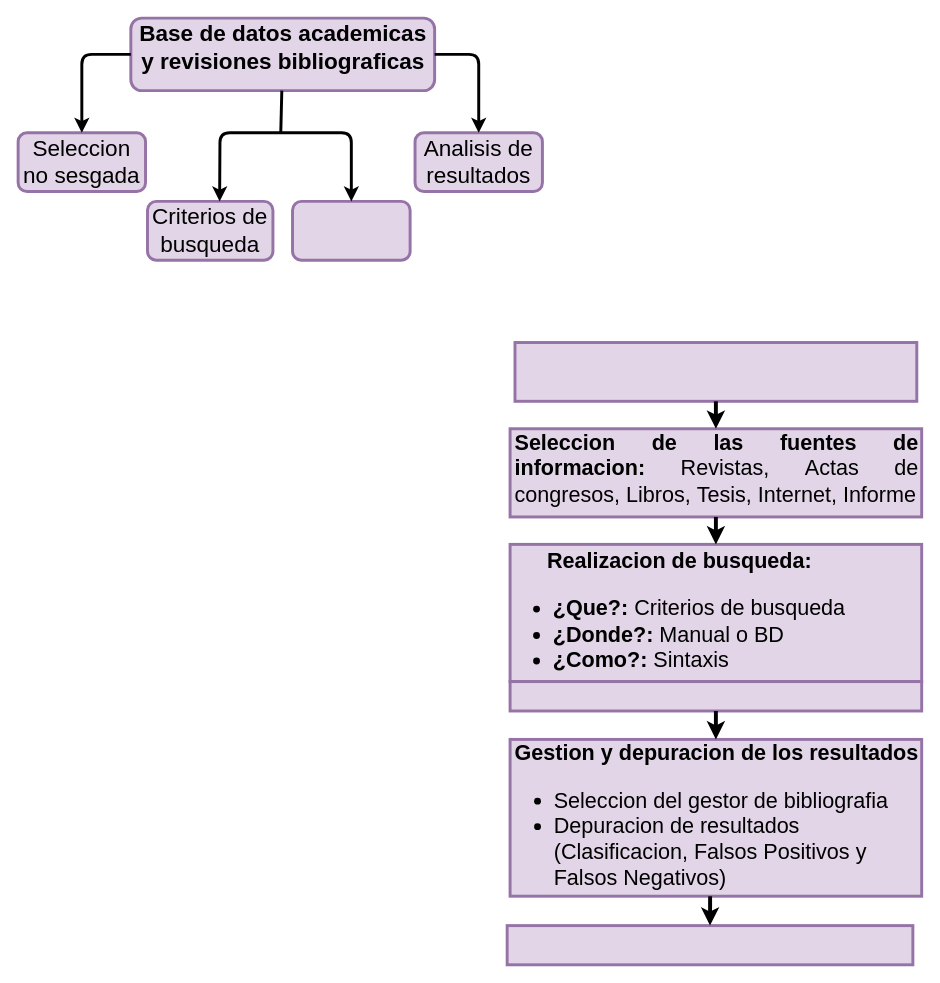
Some shapes in this 940 by 983 pixel diagram are drawn without their labels. Each missing label, with the box of its shape:
Analisis de los resultados: (505, 924, 914, 966)
Base de la evidencia: (291, 199, 411, 261)
Identificacion del campo de estudio y periodo a analizar: (513, 341, 918, 402)
Prueba Piloto: (508, 680, 923, 712)
